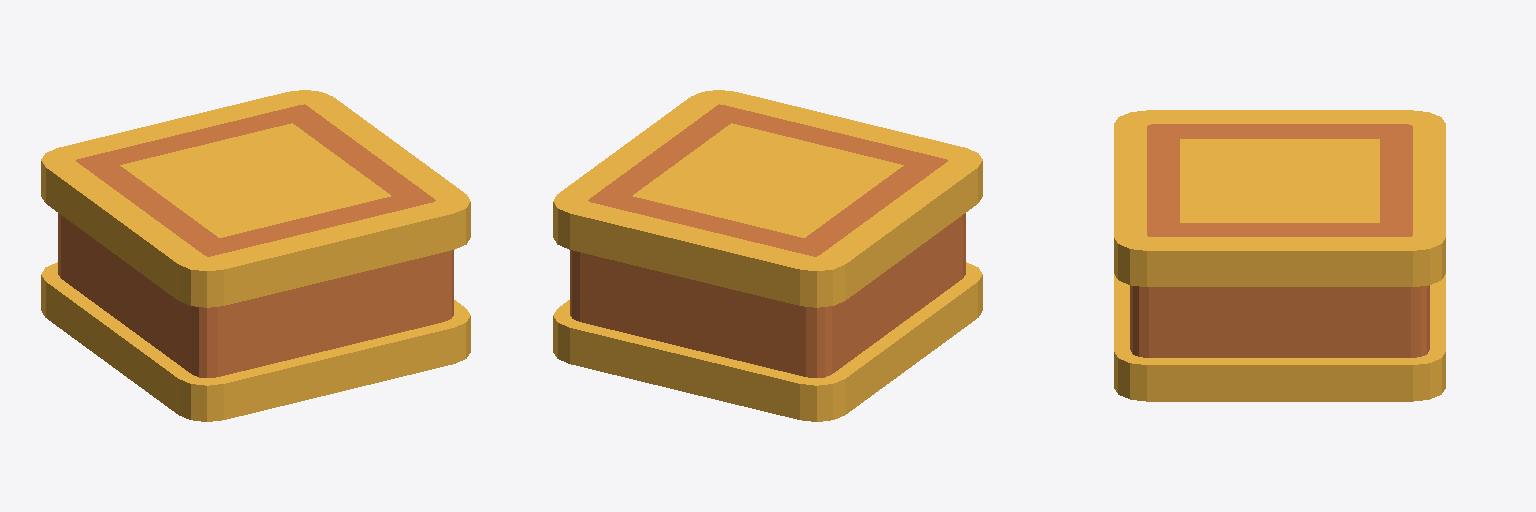
The model's file is blockMovingLarge.obj.
3 views of the same model, side by side, from view 1: azimuth 30°, elevation 25°; view 2: azimuth 150°, elevation 25°; view 3: azimuth 270°, elevation 25° (orthographic).
Parts seen in each view (by area): view 1: blockMovingLarge; view 2: blockMovingLarge; view 3: blockMovingLarge.
Boxes of the visible parts, <box> form: blockMovingLarge: <box>41,90,470,421</box>; blockMovingLarge: <box>553,90,982,421</box>; blockMovingLarge: <box>1114,110,1445,401</box>.
Bounding box in the file's own units: 1 × 0.5 × 1.